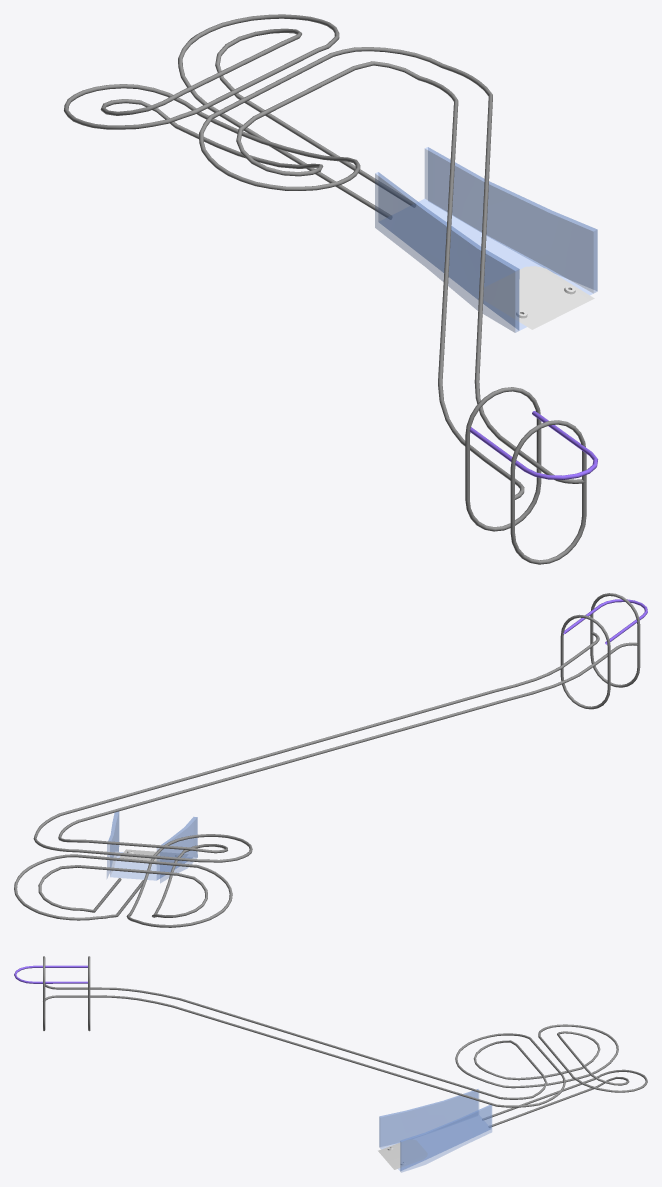
The model's file is Hannunvaakuna Ramp.FBX.
The picture shows the model from 3 angles, top to bottom: view 1: azimuth 30°, elevation 25°; view 2: azimuth 150°, elevation 25°; view 3: azimuth 270°, elevation 25°; orthographic projection. The views are drawn at different scales.
Parts seen in each view (by area): view 1: Ramp, Ramp Entrance002, Plate004; view 2: Ramp, Ramp Entrance002; view 3: Ramp, Ramp Entrance002, Plate004.
Part boxes in pixels (x1,y1,x2,y2): Ramp: [64, 14, 597, 564]; Ramp Entrance002: [375, 147, 597, 332]; Plate004: [483, 266, 594, 329]; Ramp: [14, 593, 647, 927]; Ramp Entrance002: [107, 811, 197, 883]; Ramp: [14, 956, 647, 1127]; Ramp Entrance002: [379, 1089, 491, 1172]; Plate004: [378, 1139, 427, 1169].
Size of the model in its own units: 0.2174 by 0.108 by 0.5372.
